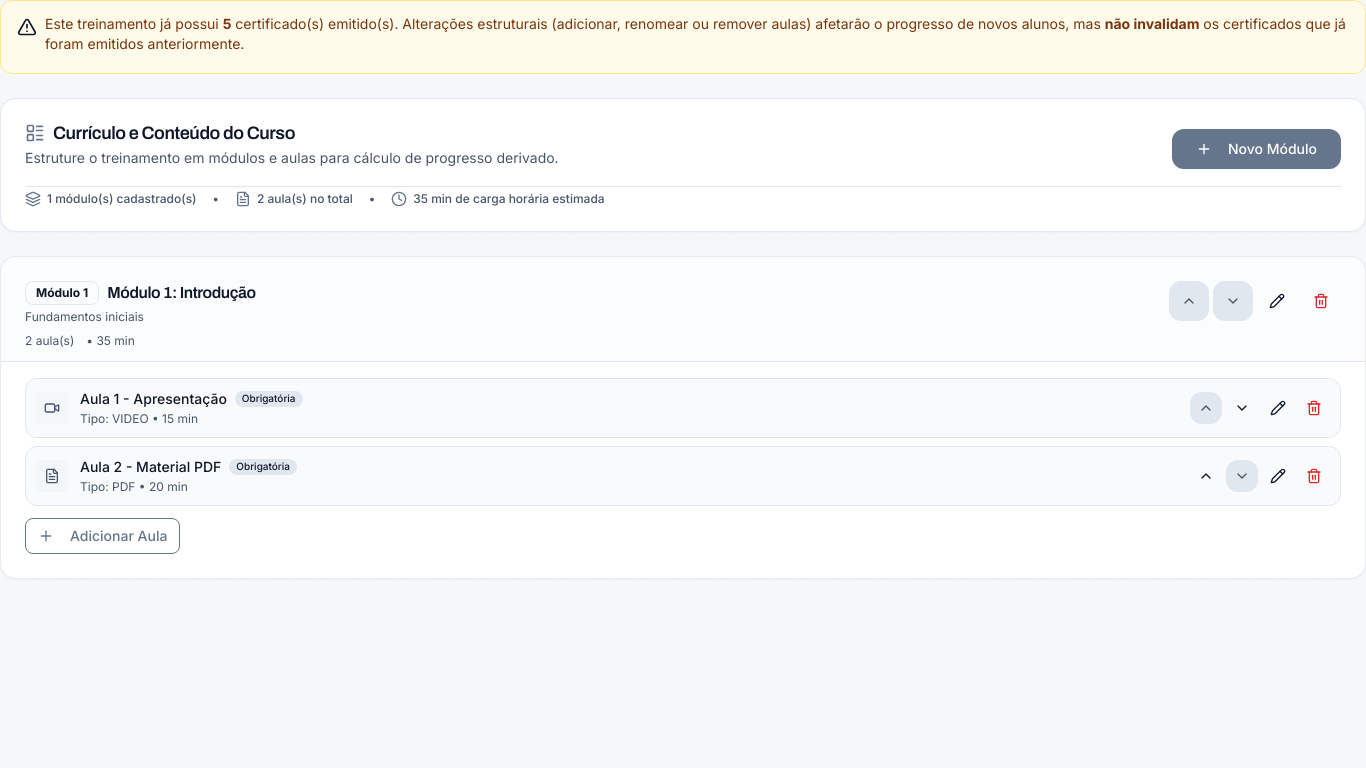
Test case: ETAPA 9.6 — CRUD de Módulos, Aulas e Quiz (Passo 8.1 Validações) › j) modal de exclusão de módulo exibe contagem de aulas a serem removidas em cascata
This screenshot has width=1366, height=768.
Note: Clica no botão de excluir o primeiro módulo
Click the button titled "Excluir módulo" at (1321, 301), box [1301,281,1341,321]
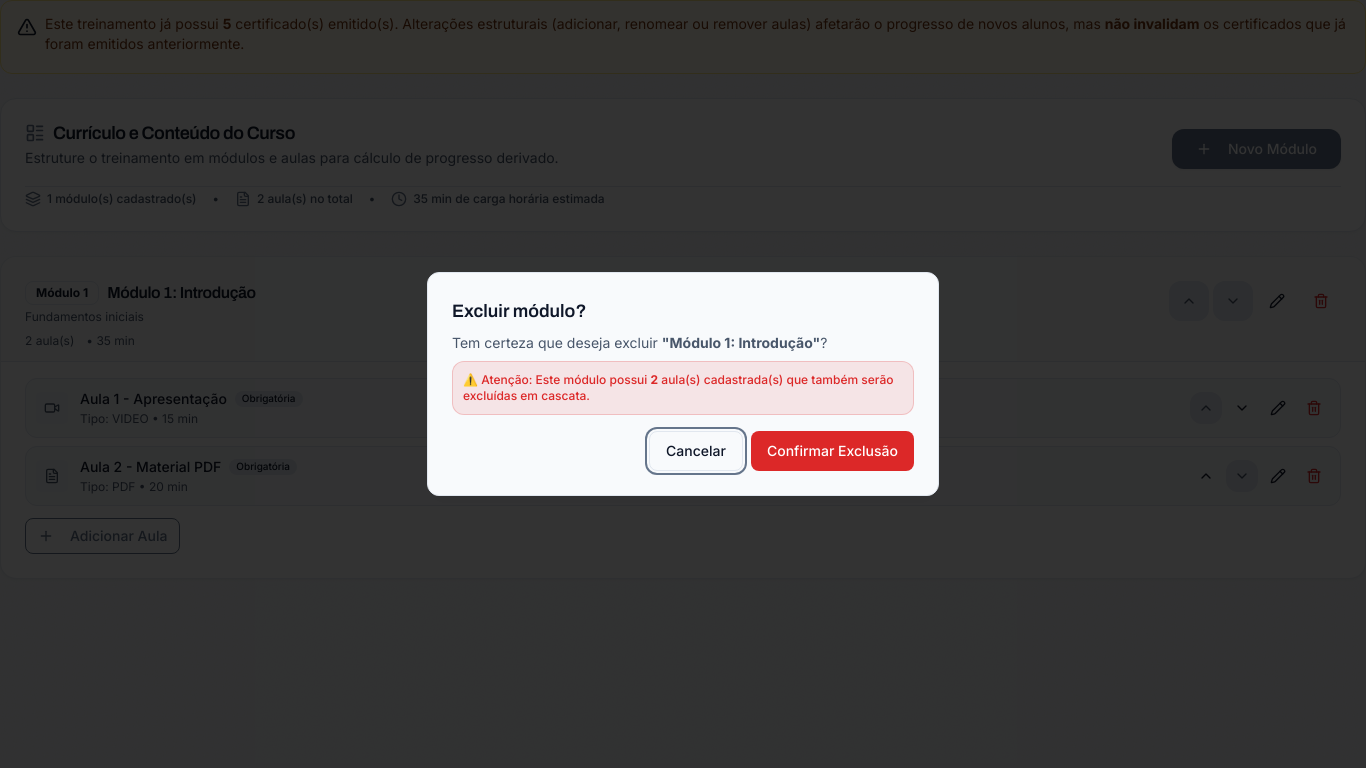
Expected: the heading "Excluir módulo?" is shown, [452,301,586,321]
Expected: the text "Este módulo possui" is shown, [463,372,651,387]
Expected: the text "aula(s) cadastrada(s) que também serão excluídas em cascata" is shown, [463,372,894,403]
